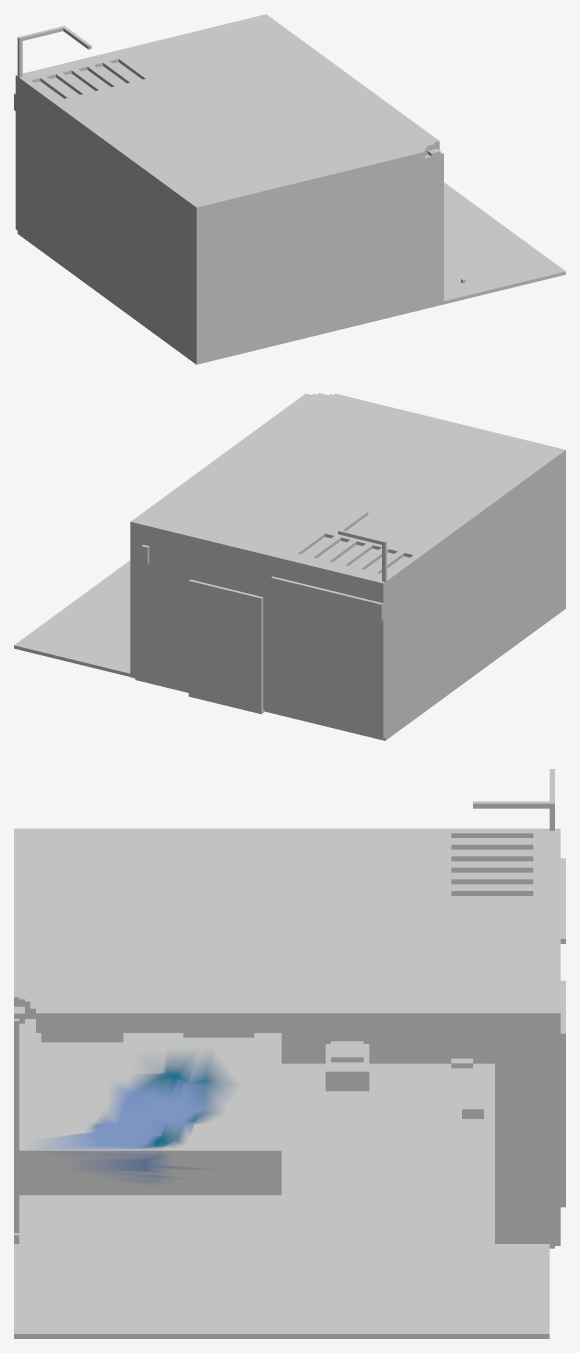
The model's file is room.glb.
3 renders of one model, top to bottom at view 1: azimuth 30°, elevation 25°; view 2: azimuth 150°, elevation 25°; view 3: azimuth 270°, elevation 25°, orthographic. The views are drawn at different scales.
Parts seen in each view (by area): view 1: default; view 2: default; view 3: default.
Boxes of the visible parts, box(x1,y1,x2,y2) form: default: box(14, 14, 565, 364); default: box(14, 393, 565, 740); default: box(14, 769, 565, 1338).
Bounding box in the file's own units: 11.8 × 6 × 10.1.
